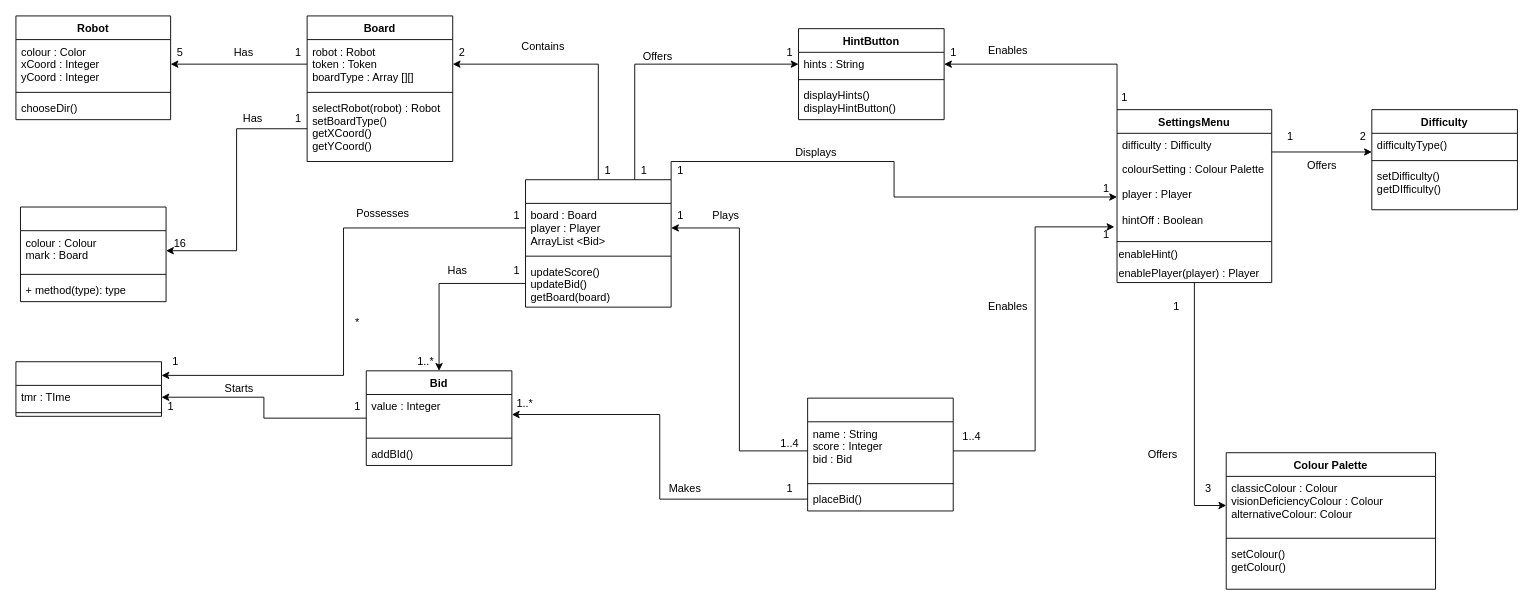
This 1533x608 diagram has some shape labels left out. Here are the shapes that lost their labels. From the top down, the box of each, then its label:
(20, 206, 166, 302): Token
(525, 179, 671, 307): GameGui
(15, 361, 162, 416): TImer
(807, 397, 953, 511): Player
